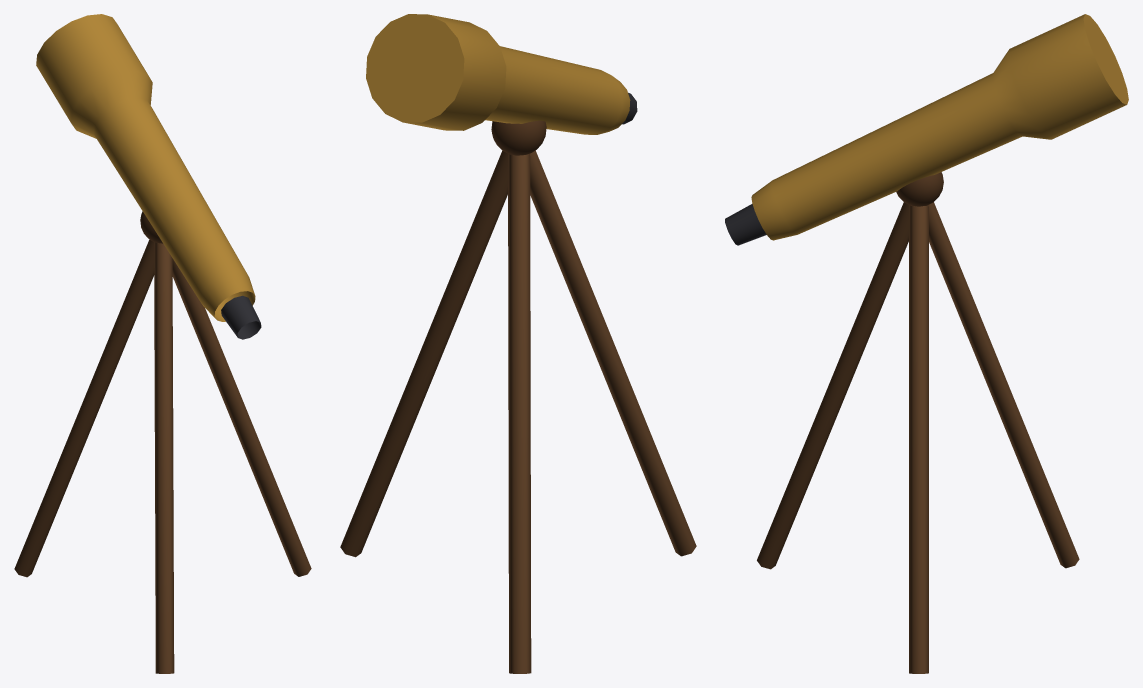
The model's file is telescope.glb.
3 renders of one model, left to right at view 1: azimuth 30°, elevation 25°; view 2: azimuth 150°, elevation 25°; view 3: azimuth 270°, elevation 25°, orthographic. The views are drawn at different scales.
Visible parts, largest first — view 1: telescope_main; view 2: telescope_main; view 3: telescope_main.
Part boxes in pixels (x1,y1,x2,y2): telescope_main: [14, 14, 311, 673]; telescope_main: [340, 14, 696, 673]; telescope_main: [725, 14, 1128, 673].
Size of the model in its own units: 0.5601 by 1.29 by 0.8069.
